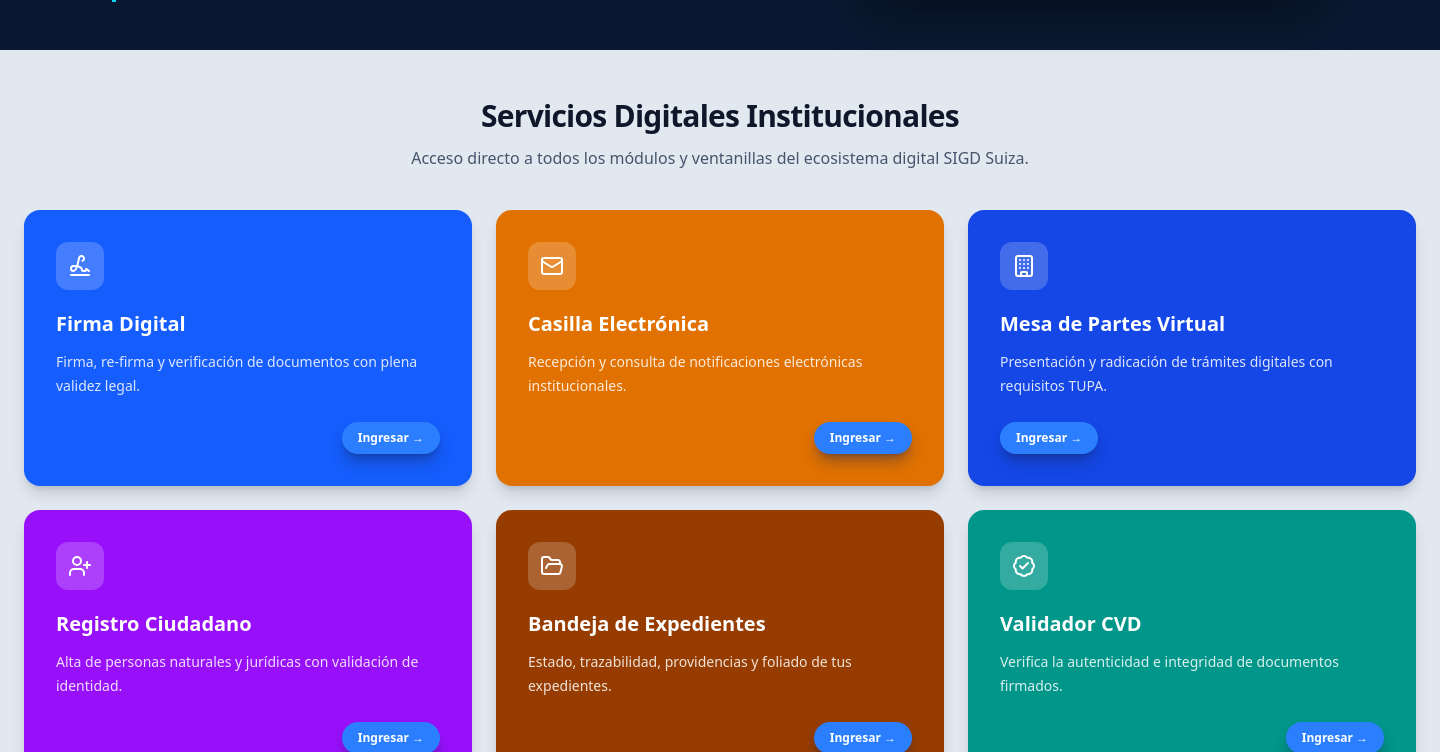
Test: Acceso a Mesa de Partes Virtual desde el portal › permite cerrar el modal sin conceder acceso
This screenshot has width=1440, height=752.
(page scrolled)
What coordinates should you click on to do the following:
click the button "Mesa de Partes Virtual"
I would click on:
 (1024, 266)
Its box is 968,210 -> 1416,486.
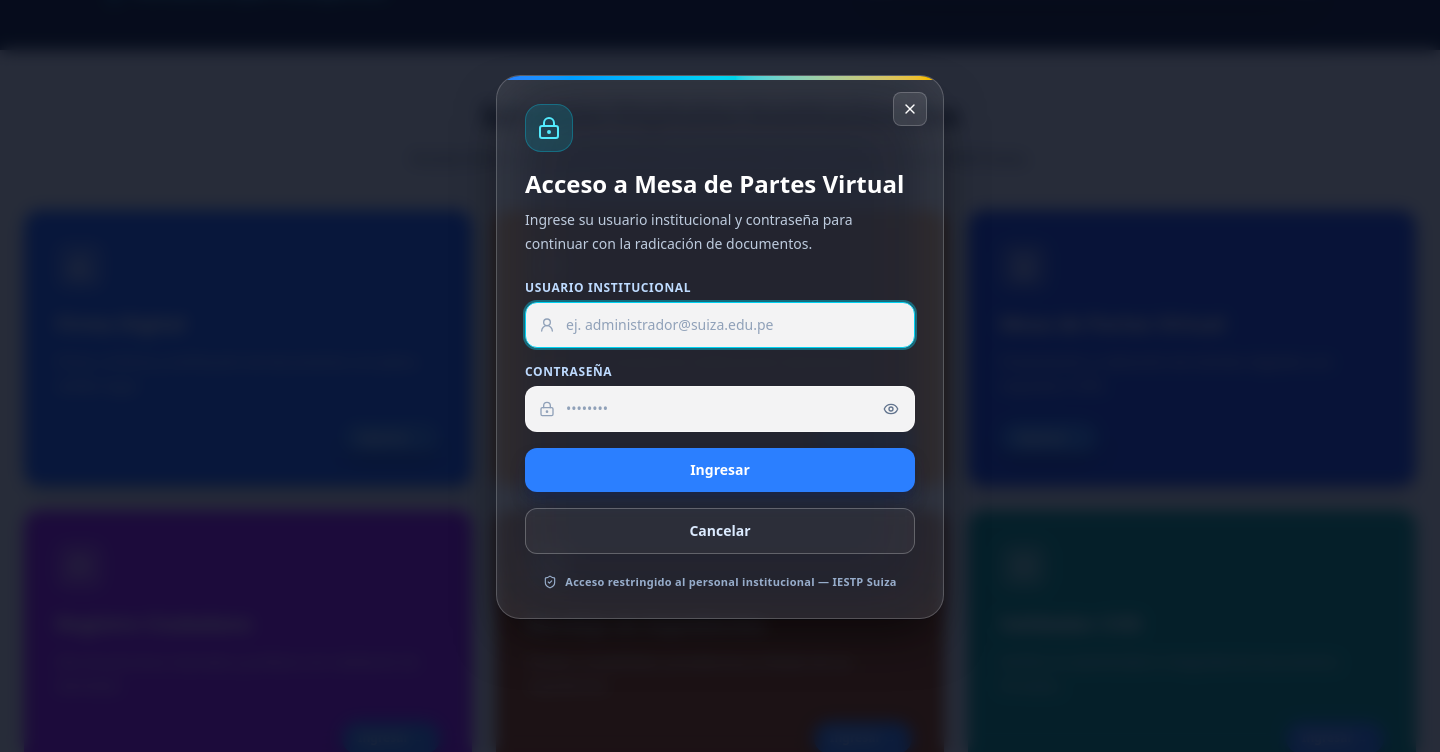
What coordinates should you click on to do the following:
click the button "Cancelar"
I would click on:
 (720, 531)
Its box is 525,508 -> 915,554.
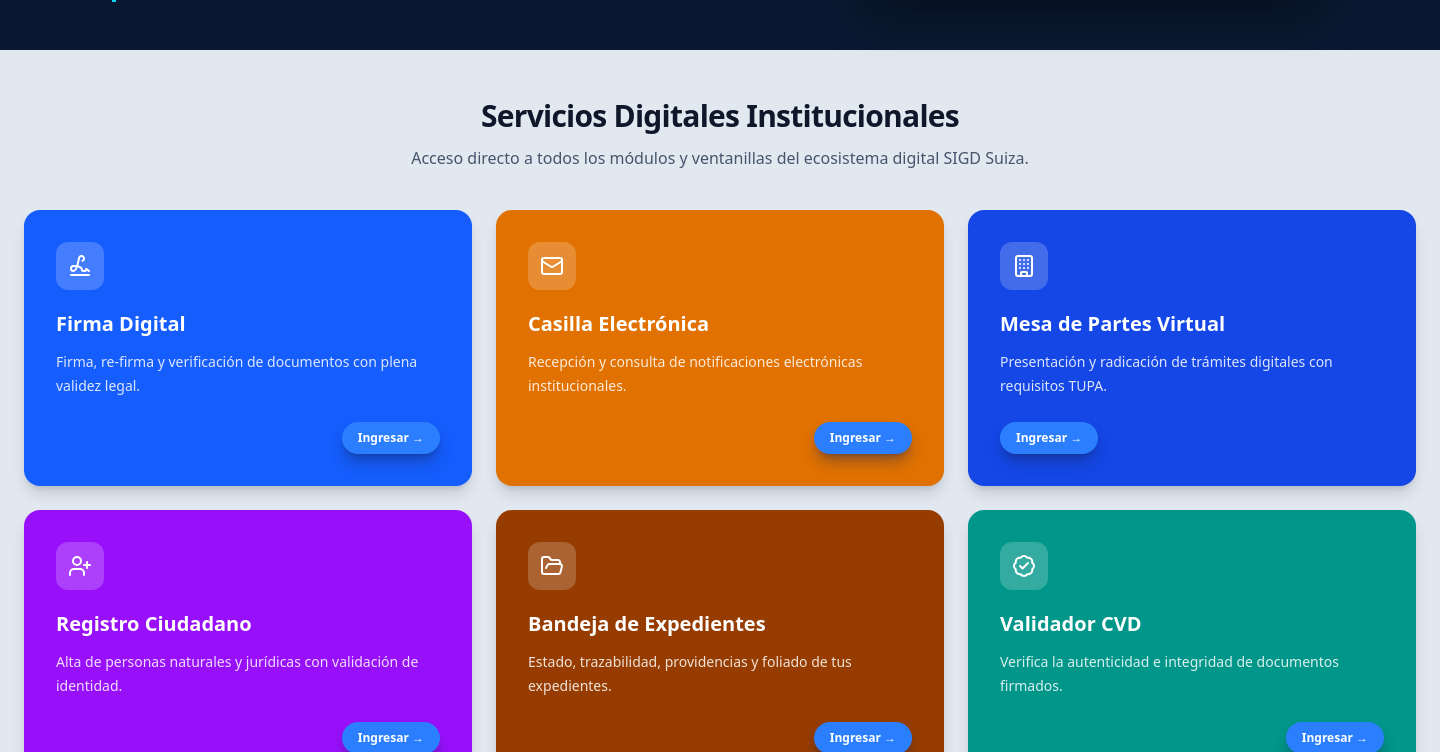
expect the dialog is gone: met
